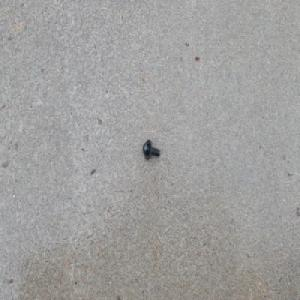BoltWasher: (141, 139, 159, 161)
